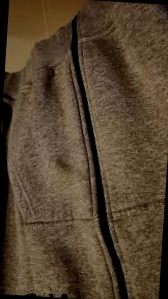oil: (50, 151, 70, 171)
